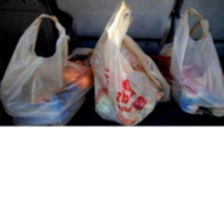plastic_bag: (0, 11, 97, 128), (88, 0, 175, 127), (154, 0, 224, 120)
